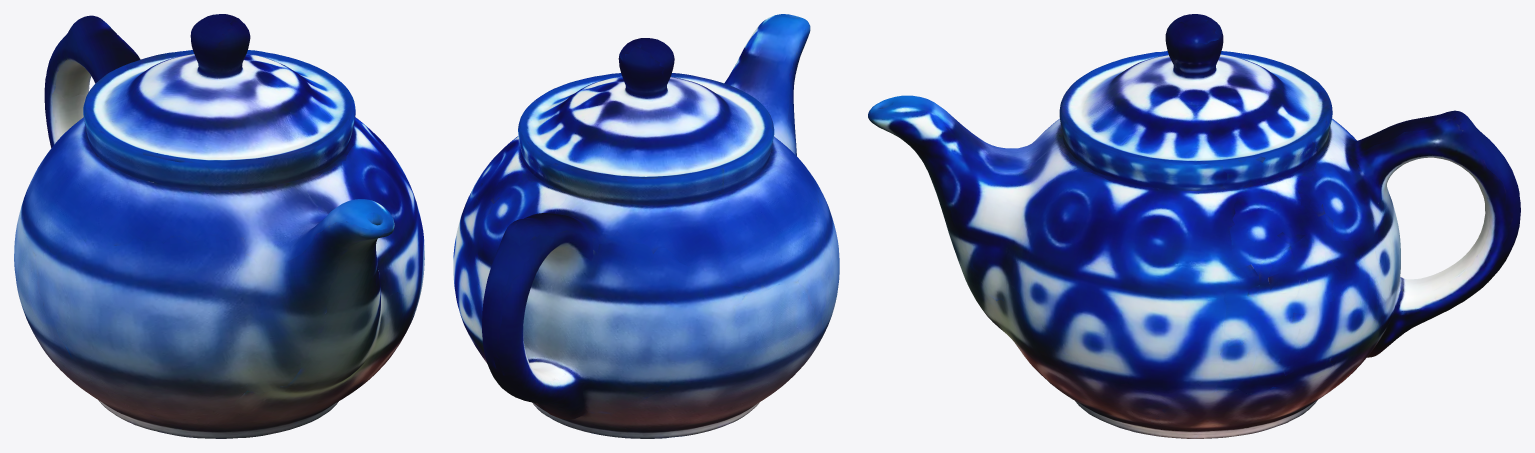
Rendered from teapot.glb.
3 views of the same model, side by side, from view 1: azimuth 30°, elevation 25°; view 2: azimuth 150°, elevation 25°; view 3: azimuth 270°, elevation 25° (orthographic). The views are drawn at different scales.
Visible parts, largest first — view 1: Mesh; view 2: Mesh; view 3: Mesh.
Part boxes in pixels (x1,y1,x2,y2): Mesh: [14, 14, 424, 438]; Mesh: [453, 14, 839, 438]; Mesh: [868, 14, 1520, 438].
Size of the model in its own units: 1.19 by 1.18 by 1.89.
1 material, 1 textured.
